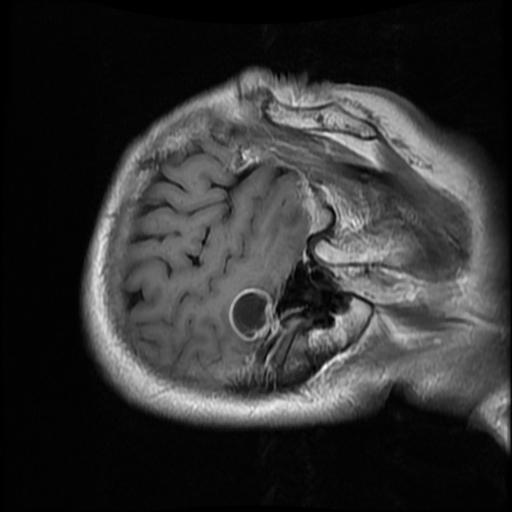glioma: (229, 288, 273, 342)
